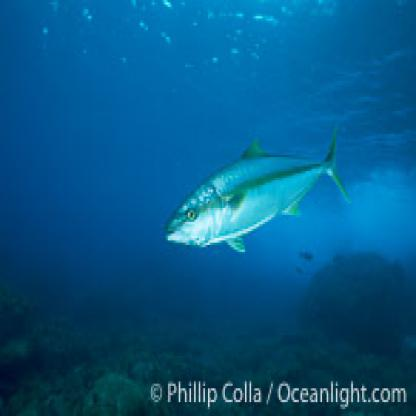jack: (157, 124, 354, 265)
